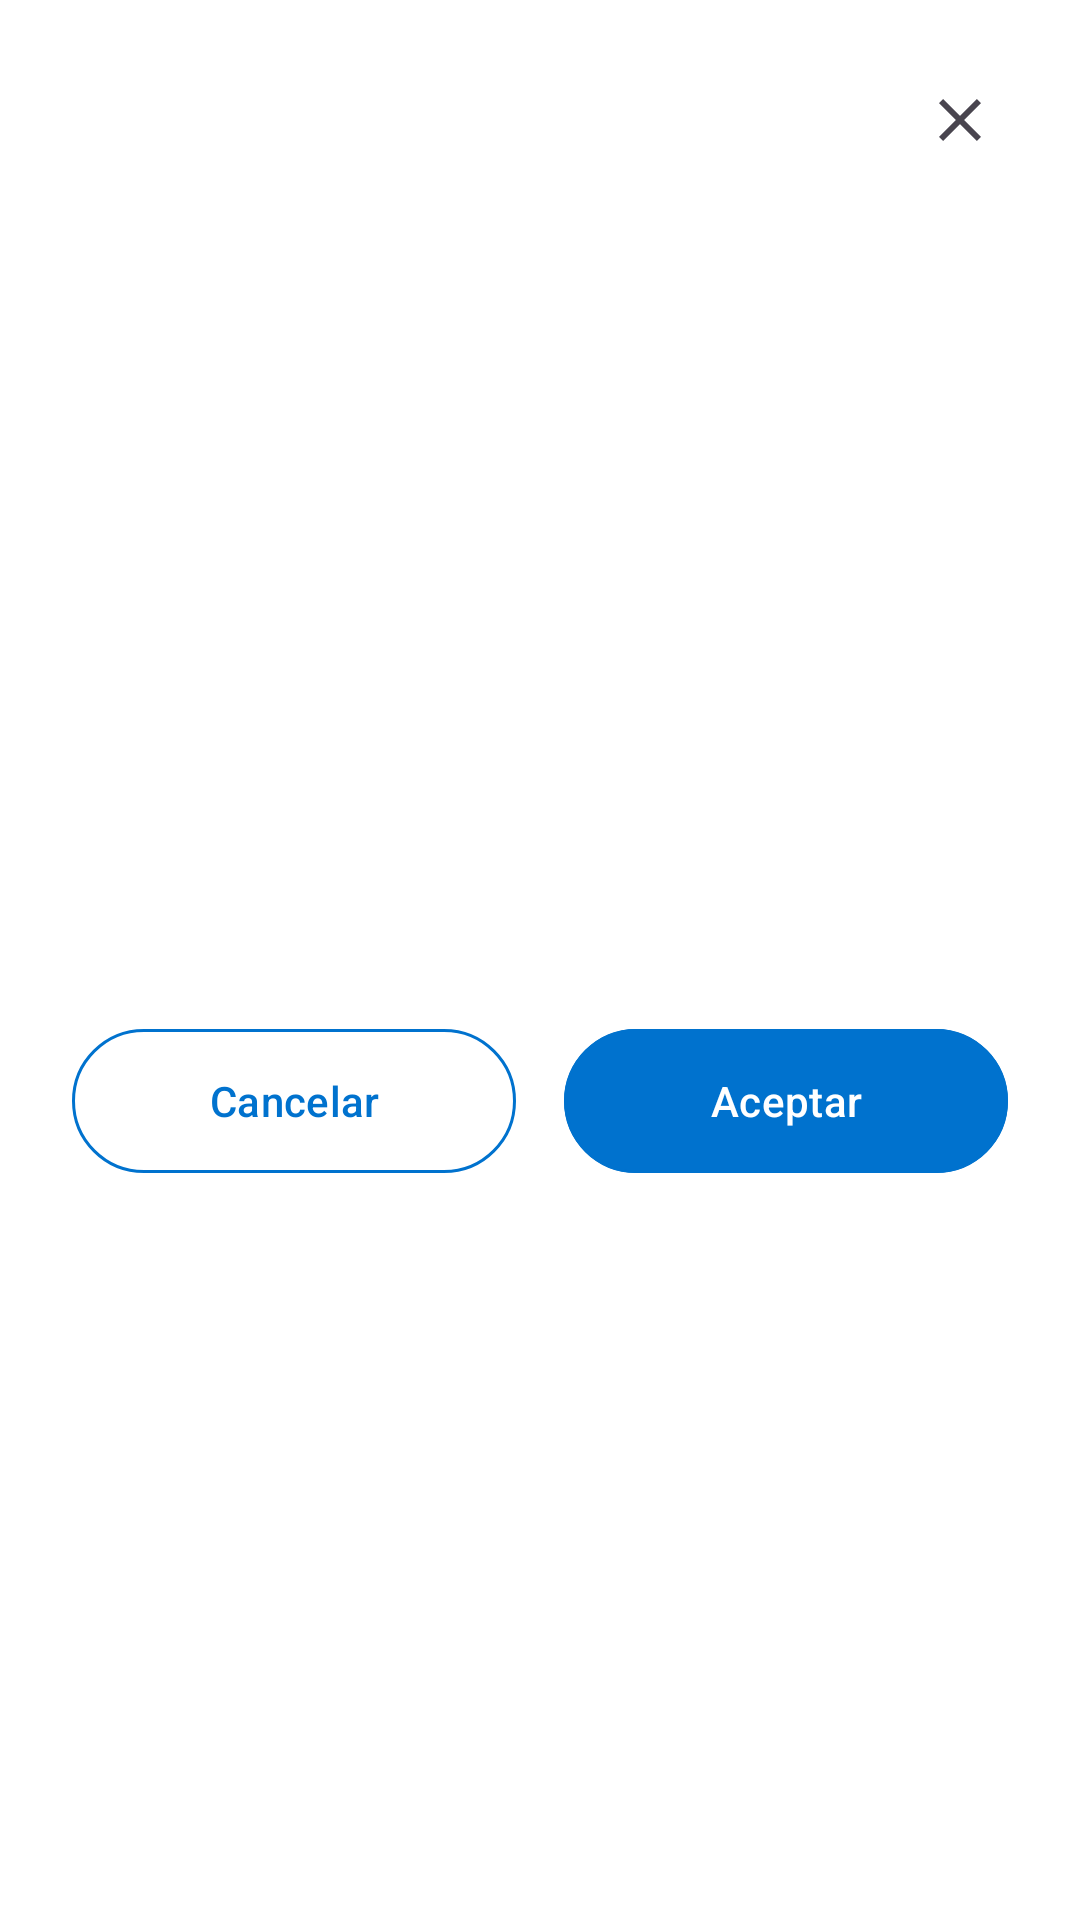

Named icons in this screenshot (1080*1920) and their centers, point (x, y):
Cerrar: point (960, 120)
